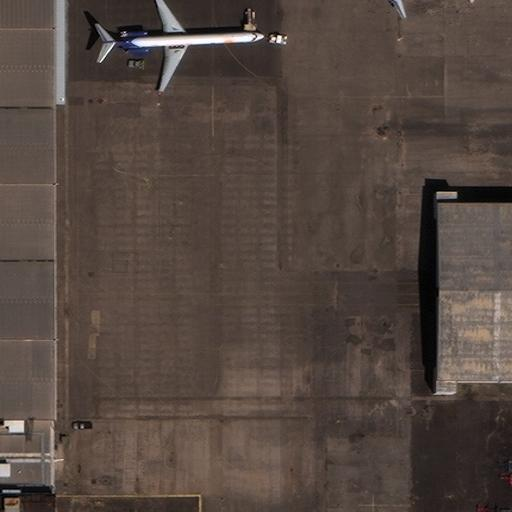Medium Civil Transport: (100, 0, 263, 92)
